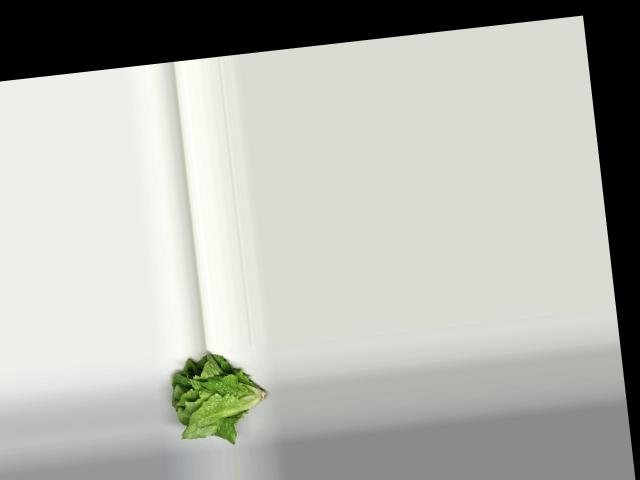lettuce: (166, 347, 274, 450)
